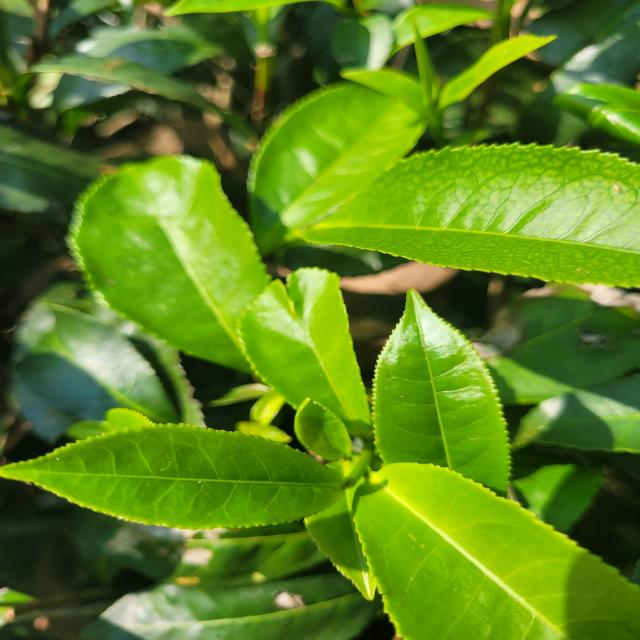Catagory A(1-2 days): (278, 386, 368, 480)
